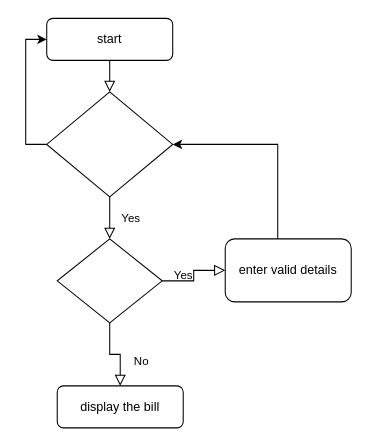
Image size: 370x446. Some labels were removed from this diagram. Each missing label, with the box of its shape:
enter the details of user: (46, 91, 173, 197)
valid details: (56, 238, 162, 323)
